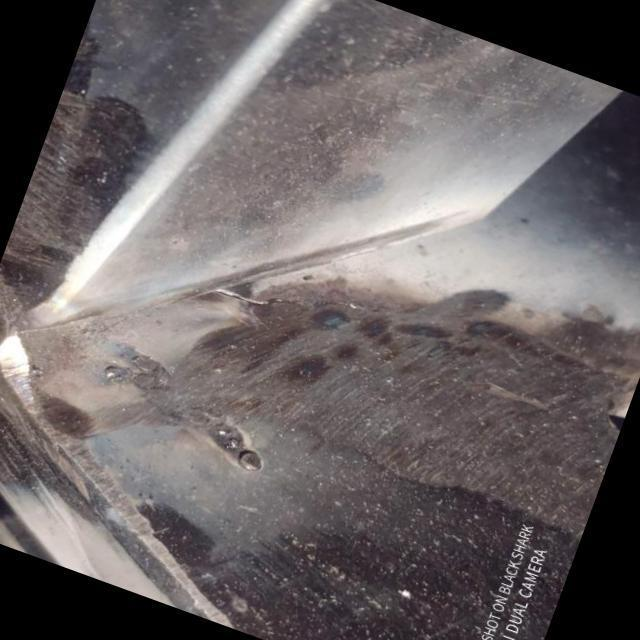defect: (211, 288, 370, 313)
